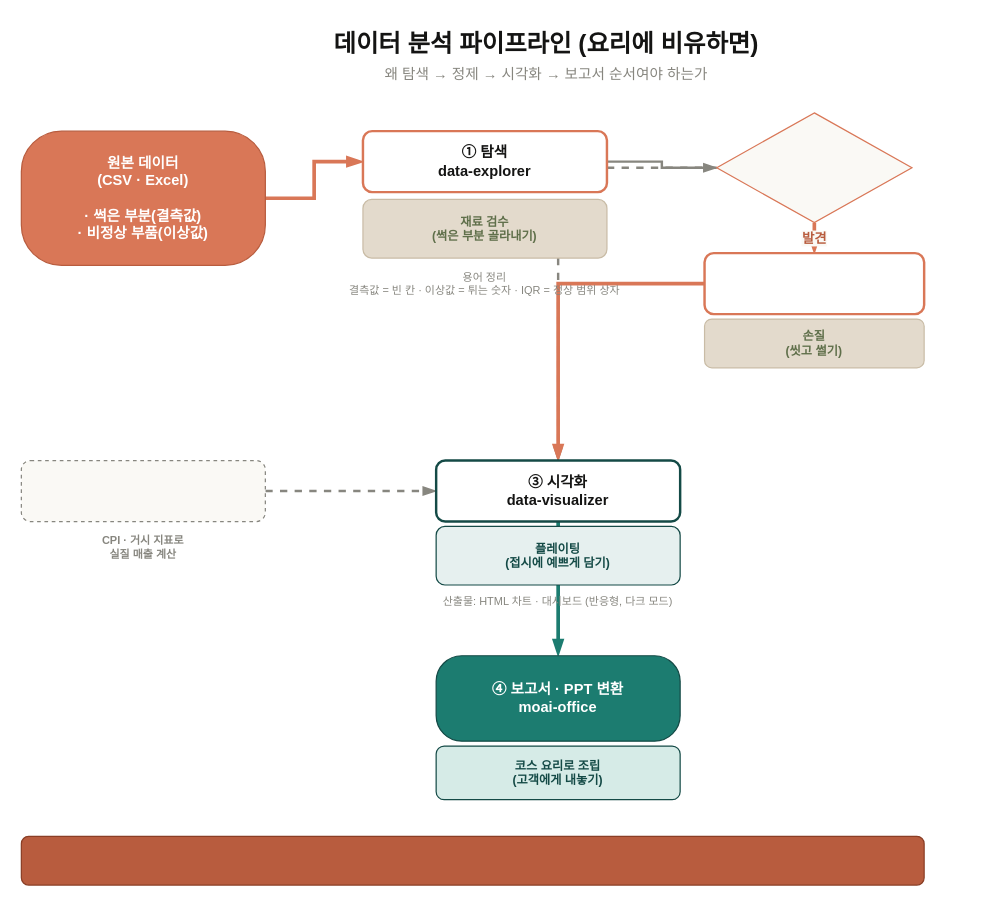
Some shapes in this 994 by 906 pixel diagram are drawn without their labels. The centre of each missing label's shape, as x and y in pixels:
"② 정제 · 보완 (수동 프롬프트)" goes at point 814,283.
"결측·이상 발견?" goes at point 814,167.
"공공데이터 API (KOSIS · data.go.kr)" goes at point 142,490.
"순서가 바뀌면? 썩은 재료를 접시에 담거나, 날것을 그대로 내놓는 결과" goes at point 472,860.
